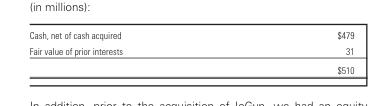table: (28, 29, 353, 75)
table column: (28, 29, 229, 75), (229, 29, 353, 75)
table row: (28, 42, 353, 59), (28, 59, 353, 75), (28, 29, 353, 42)
